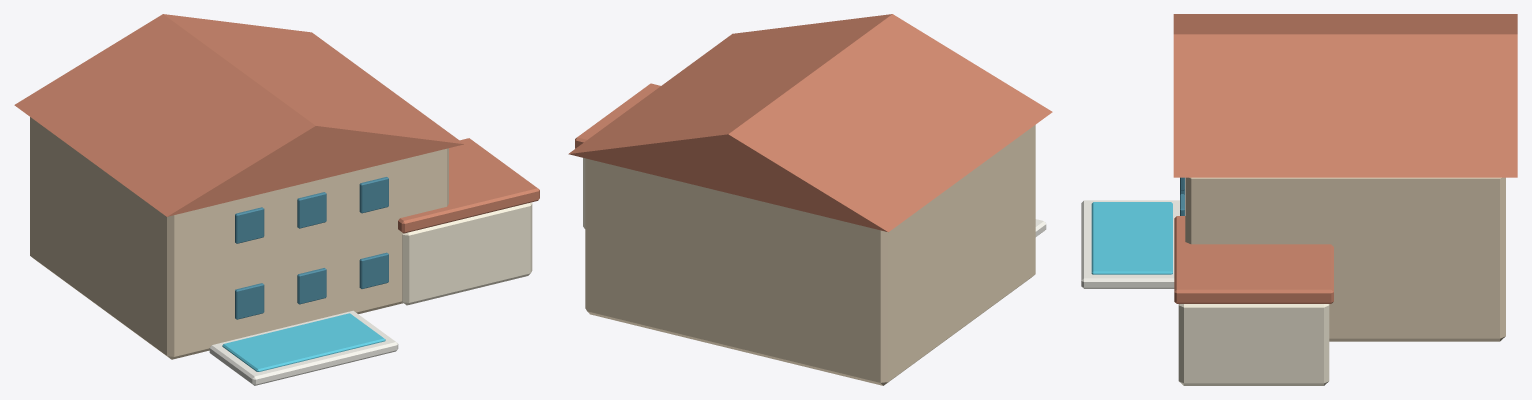
Rendered from RES_LUX_2x2_001.glb.
The picture shows the model from 3 angles, left to right: view 1: azimuth 30°, elevation 25°; view 2: azimuth 150°, elevation 25°; view 3: azimuth 270°, elevation 25°; orthographic projection. The views are drawn at different scales.
Parts seen in each view (by area): view 1: RES_LUX_2x2_001_Visual; view 2: RES_LUX_2x2_001_Visual; view 3: RES_LUX_2x2_001_Visual.
Boxes of the visible parts, bbox=[...] form: RES_LUX_2x2_001_Visual: bbox=[14, 14, 539, 385]; RES_LUX_2x2_001_Visual: bbox=[568, 14, 1052, 385]; RES_LUX_2x2_001_Visual: bbox=[1081, 14, 1517, 385].
Size of what is drawn, in the model's own units: 3.72 by 1.96 by 3.34.
